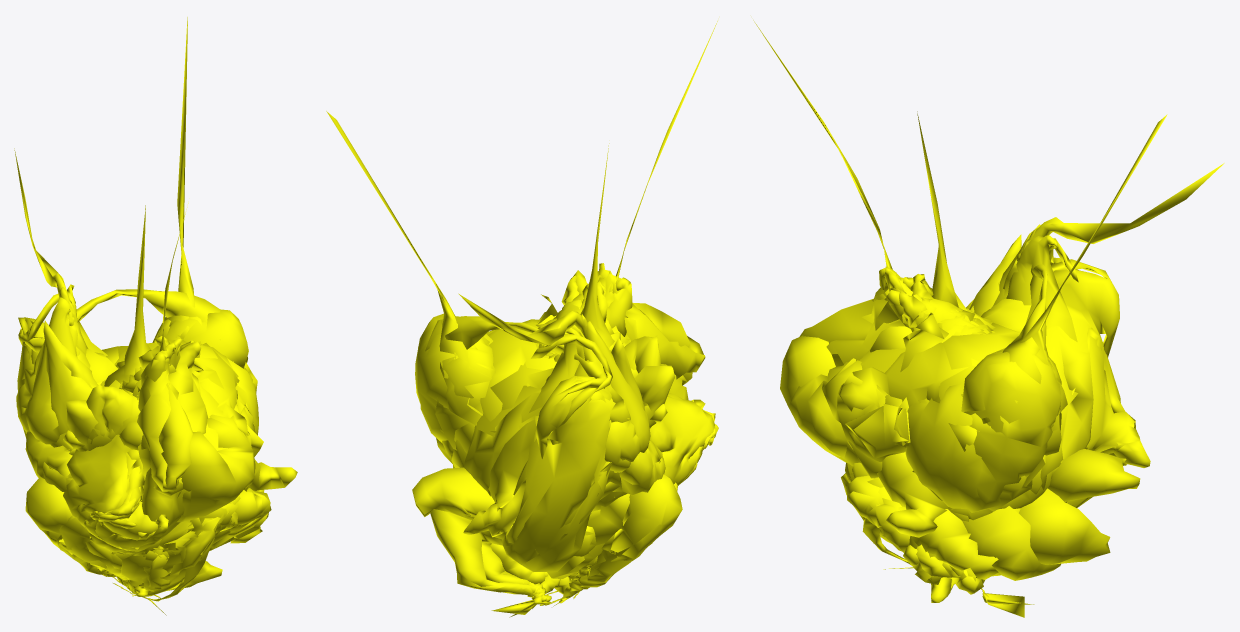
Rendered from liana.glb.
3 renders of one model, left to right at view 1: azimuth 30°, elevation 25°; view 2: azimuth 150°, elevation 25°; view 3: azimuth 270°, elevation 25°, orthographic. The views are drawn at different scales.
Visible parts, largest first — view 1: MangroveTreeToAmazonLiana01; view 2: MangroveTreeToAmazonLiana01; view 3: MangroveTreeToAmazonLiana01.
Part boxes in pixels (x1,y1,x2,y2): MangroveTreeToAmazonLiana01: [14, 17, 297, 615]; MangroveTreeToAmazonLiana01: [326, 21, 718, 617]; MangroveTreeToAmazonLiana01: [753, 20, 1224, 617].
Bounding box in the file's own units: 0.4491 × 0.857 × 0.6679.
1 material, 1 textured.
